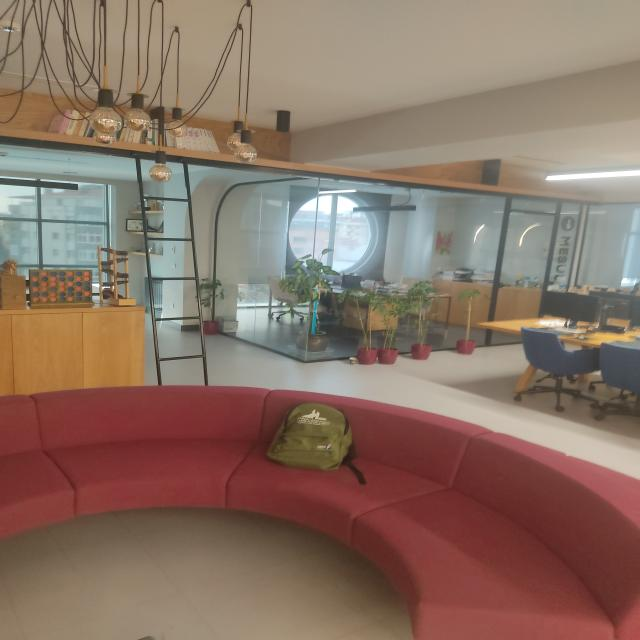bag: (269, 398, 355, 473)
